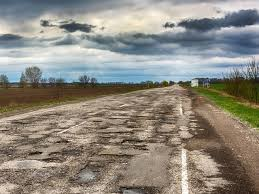pothole: (92, 115, 150, 150), (5, 114, 67, 146), (76, 151, 128, 183), (156, 106, 183, 143), (27, 147, 64, 164)
